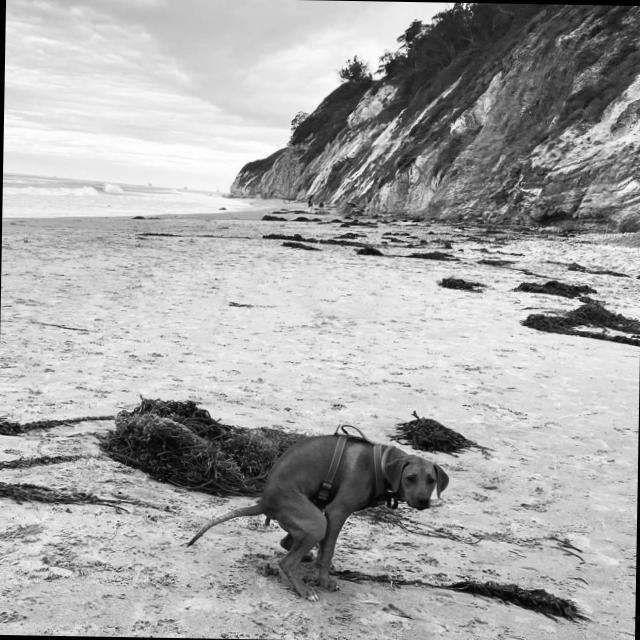squatting: (182, 426, 454, 604)
